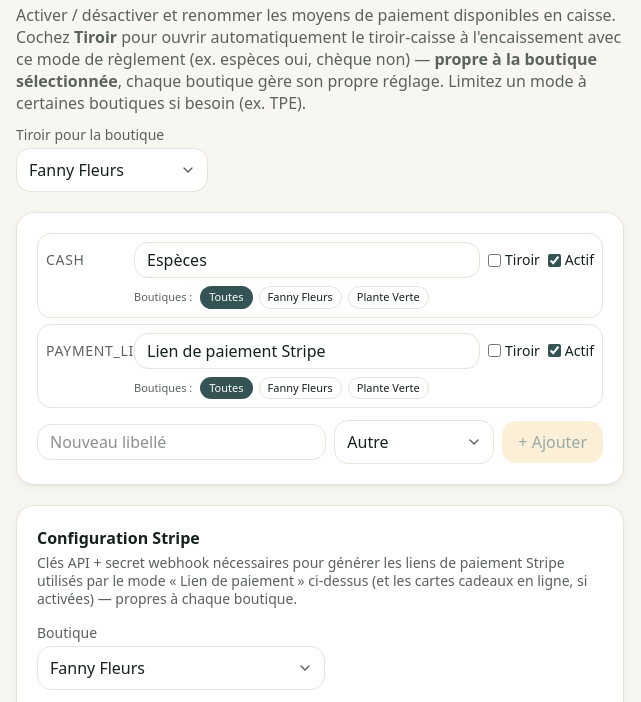
Configuration Stripe dans Modes de règlement (/settings/payment-methods) › charge par défaut la config de la première boutique, puis recharge celle de la boutique sélectionnée
Expected: the heading "Configuration Stripe" is shown, left=37, top=527, right=200, bottom=549
Select "Plante Verte" in the dropdown labelled "Boutique": (181, 668) left=37, top=646, right=325, bottom=690
(page scrolled)
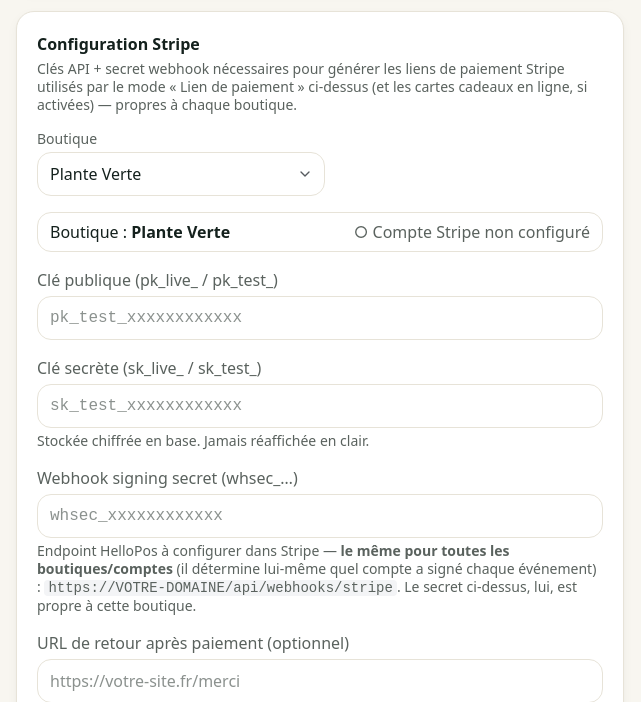
Expected: the text "○ Compte Stripe non configuré" is shown, left=354, top=221, right=590, bottom=243
Expected: the field with placeholder "pk_test_xxxxxxxxxxxx" is empty, left=37, top=296, right=603, bottom=340
